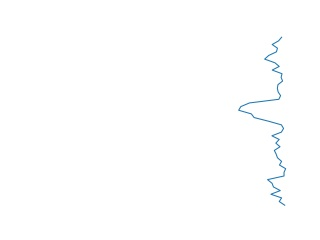interdistributaryEstuary: (233, 37, 293, 206)
